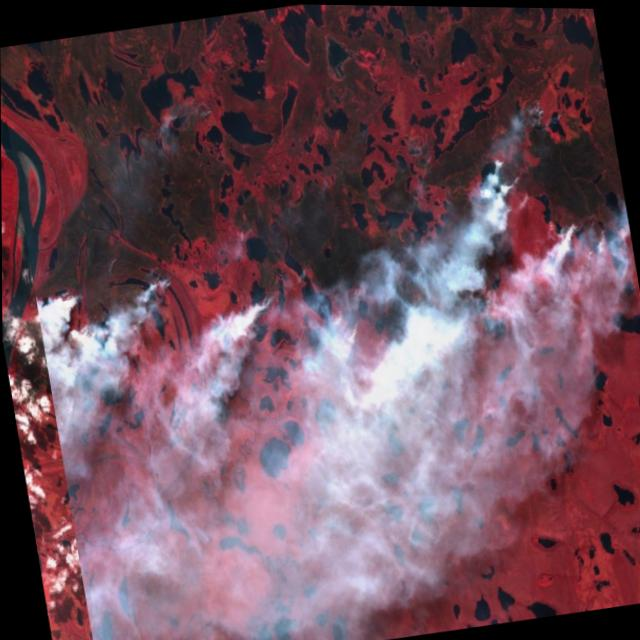fire: (1, 120, 640, 449)
